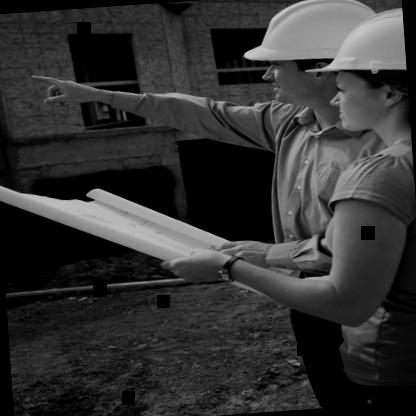helmet: (242, 0, 392, 118), (298, 6, 411, 144)
